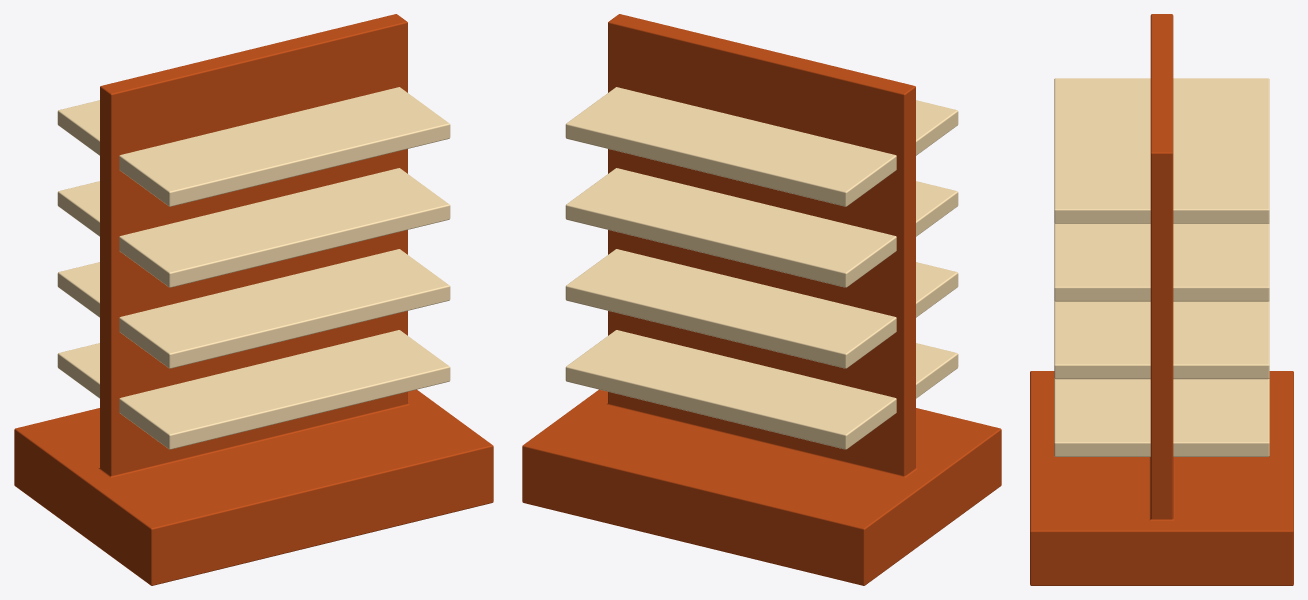
The model's file is tall_shelf.glb.
3 renders of one model, left to right at view 1: azimuth 30°, elevation 25°; view 2: azimuth 150°, elevation 25°; view 3: azimuth 270°, elevation 25°, orthographic. The views are drawn at different scales.
Parts seen in each view (by area): view 1: Cube.018, Cube.019; view 2: Cube.018, Cube.019; view 3: Cube.019, Cube.018.
Boxes of the visible parts, box(x1,y1,x2,y2) form: Cube.018: box(14, 14, 493, 585); Cube.019: box(57, 87, 450, 449); Cube.018: box(522, 14, 1001, 585); Cube.019: box(565, 87, 958, 449); Cube.019: box(1054, 78, 1269, 456); Cube.018: box(1030, 14, 1293, 585).
Bounding box in the file's own units: 1.88 × 2.31 × 1.3.
